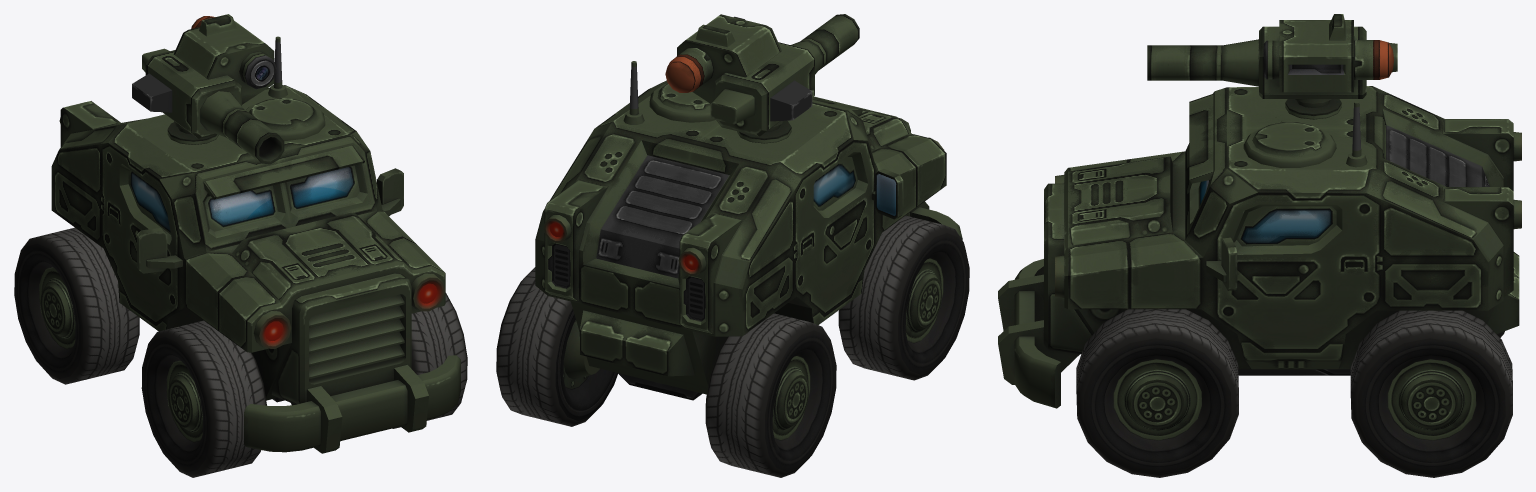
The model's file is APC_4x4.FBX.
The picture shows the model from 3 angles, left to right: view 1: azimuth 30°, elevation 25°; view 2: azimuth 150°, elevation 25°; view 3: azimuth 270°, elevation 25°; orthographic projection. The views are drawn at different scales.
Visible parts, largest first — view 1: Cartoon_APC_4x4, APC_4x4_Front-Wheel_R, APC_4x4_Back-Wheel_R, APC_4x4_Weapon, APC_4x4_Front-Wheel_L; view 2: Cartoon_APC_4x4, APC_4x4_Back-Wheel_R, APC_4x4_Front-Wheel_R, APC_4x4_Weapon, APC_4x4_Back-Wheel_L; view 3: Cartoon_APC_4x4, APC_4x4_Front-Wheel_L, APC_4x4_Back-Wheel_L, APC_4x4_Weapon.
Part boxes in pixels (bbox=[...]): Cartoon_APC_4x4: bbox=[51, 36, 460, 453]; APC_4x4_Front-Wheel_R: bbox=[141, 320, 266, 477]; APC_4x4_Back-Wheel_R: bbox=[14, 227, 139, 384]; APC_4x4_Weapon: bbox=[132, 14, 284, 164]; APC_4x4_Front-Wheel_L: bbox=[392, 293, 467, 428]; Cartoon_APC_4x4: bbox=[535, 61, 962, 400]; APC_4x4_Back-Wheel_R: bbox=[705, 313, 836, 477]; APC_4x4_Front-Wheel_R: bbox=[838, 215, 969, 380]; APC_4x4_Weapon: bbox=[665, 14, 859, 143]; APC_4x4_Back-Wheel_L: bbox=[496, 267, 617, 426]; Cartoon_APC_4x4: bbox=[998, 86, 1521, 408]; APC_4x4_Front-Wheel_L: bbox=[1076, 309, 1238, 477]; APC_4x4_Back-Wheel_L: bbox=[1350, 310, 1512, 477]; APC_4x4_Weapon: bbox=[1147, 14, 1397, 119].
Size of the model in its own units: 4.52 by 5.92 by 7.21.
